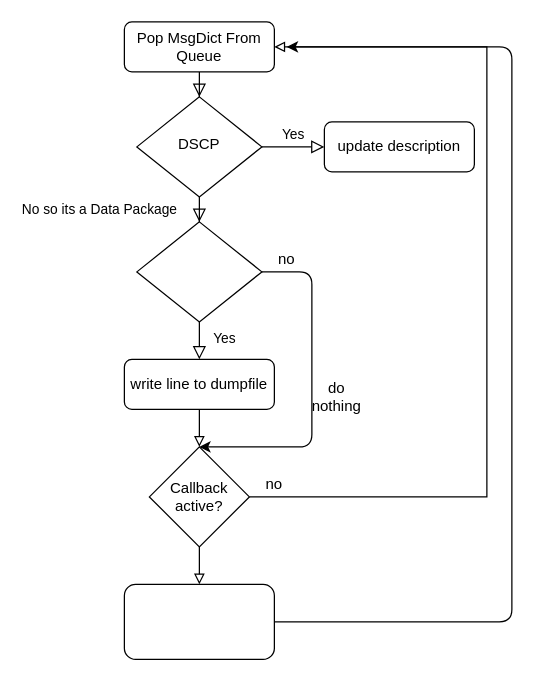
Some shapes in this 544 by 681 pixel diagram are drawn without their labels. Here are the shapes that lost their labels. From the top down, the centre of each, then its label:
point (199, 271): Dump to File Active?
point (198, 621): Call Callback
